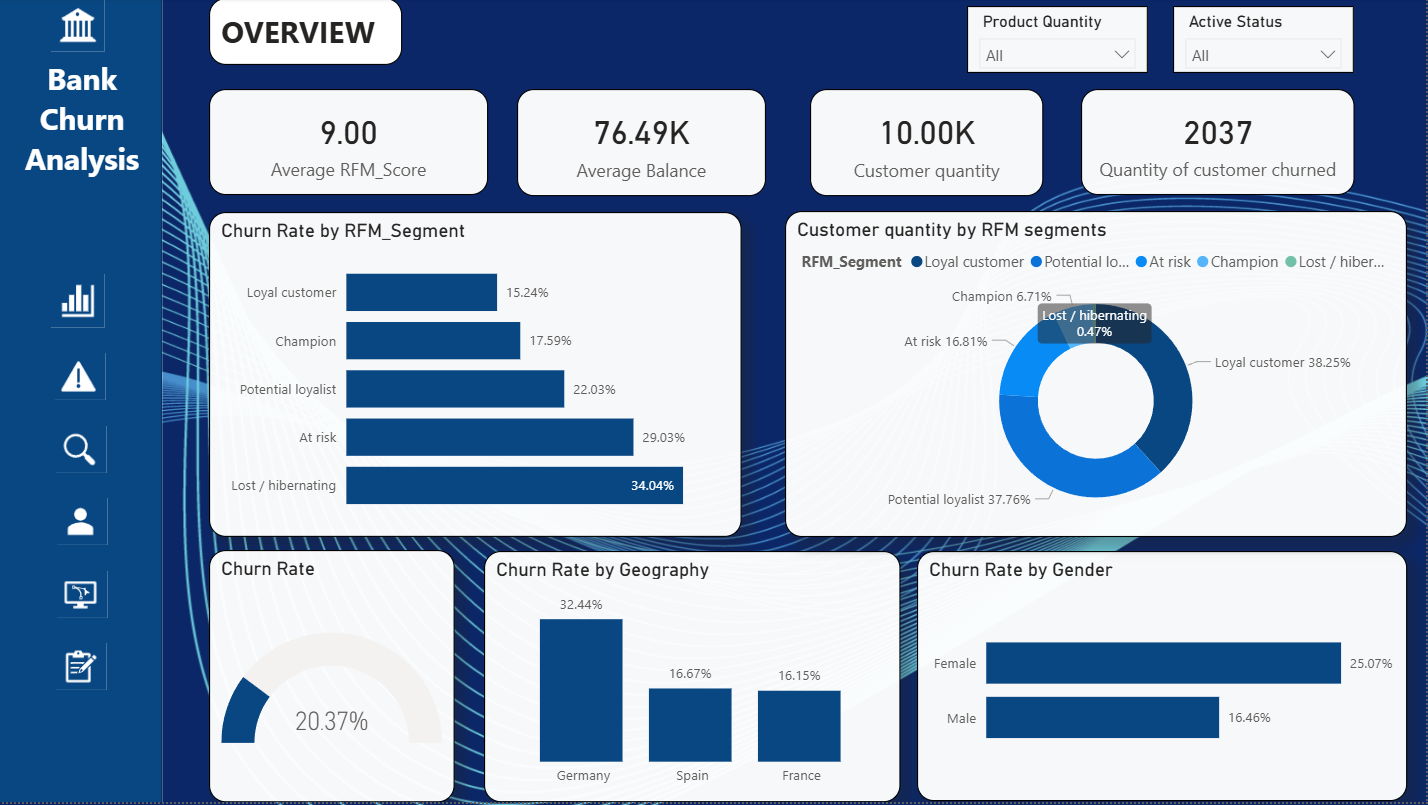

The dashboard page shown, as its layout file describes it:
{"tool":"powerbi","page":{"name":"📊Executive Overview","canvas":[1280,720],"ordinal":0},"visuals":[{"type":"shape","box":[0.9,0,147.8,720.9],"z":0},{"type":"card","fields":{"Values":["Count(Bank_Churn.CustomerId)"]},"box":[728.5,81.7,209.1,96.3],"z":1000},{"type":"card","fields":{"Values":["Sum(Bank_Churn.Exited)"]},"box":[971.7,81.7,245.1,95.3],"z":2000},{"type":"textbox","box":[190.6,0,173.1,60.3],"z":3000},{"type":"card","fields":{"Values":["Avg(Bank_Churn.Balance)"]},"box":[466.9,81.7,222.7,96.3],"z":4000},{"type":"barChart","fields":{"Category":["rfm_master_table.RFM_Segment"],"Y":["Bank_Churn.Churn Rate"]},"box":[190.7,191.6,477.3,291],"z":5000},{"type":"gauge","fields":{"Y":["Bank_Churn.Churn Rate"]},"box":[190.6,494.1,219.8,225.7],"z":6000},{"type":"clusteredColumnChart","fields":{"Category":["Bank_Churn.Geography"],"Y":["Bank_Churn.Churn Rate"]},"box":[436.7,495.1,373.5,224.7],"z":7000},{"type":"barChart","fields":{"Category":["rfm_master_table_1.Gender"],"Y":["Bank_Churn.Churn Rate"]},"box":[824.4,495.6,438.9,224.4],"z":8000},{"type":"card","title":"Avg RFM score","fields":{"Values":["Avg(rfm_master_table.RFM_Score)"]},"box":[190.6,81.7,250,95.3],"z":9000},{"type":"donutChart","title":"Customer quantity by RFM segments","fields":{"Category":["rfm_master_table.RFM_Segment"],"Y":["CountNonNull(Bank_Churn.CustomerId)"]},"box":[706.7,191.1,556.7,292.2],"z":10000},{"type":"slicer","fields":{"Values":["rfm_master_table_1.IsActive Status"]},"box":[1054.3,6.8,162.4,60.3],"z":11000},{"type":"slicer","fields":{"Values":["rfm_master_table_1.NumOfProducts"]},"box":[869.5,6.8,162.4,60.3],"z":12000},{"type":"actionButton","box":[49.3,247.2,48.4,48.4],"z":13000},{"type":"actionButton","box":[53.9,383.1,44.8,42.1],"z":14000},{"type":"actionButton","box":[54.3,512.8,44.8,42.1],"z":15000},{"type":"actionButton","box":[53.2,318.3,44.8,42.1],"z":16000},{"type":"actionButton","box":[54.6,447.9,44.8,42.1],"z":17000},{"type":"actionButton","box":[53.6,577.6,44.8,42.1],"z":18000},{"type":"textbox","box":[7.2,48.4,139.7,128.1],"z":19000},{"type":"actionButton","box":[49.3,0,48.4,48.4],"z":20000}]}

Visuals, with their boxes in screenshot pixels (x1, y1, x2, y2), scaled from the page's 1280x720 canvas onto the 1428x805 screenshot:
shape: (x1=1, y1=0, x2=166, y2=804)
card - Count(Bank_Churn.CustomerId): (x1=813, y1=91, x2=1046, y2=199)
card - Sum(Bank_Churn.Exited): (x1=1084, y1=91, x2=1357, y2=198)
textbox: (x1=213, y1=0, x2=406, y2=67)
card - Avg(Bank_Churn.Balance): (x1=521, y1=91, x2=769, y2=199)
barChart - rfm_master_table.RFM_Segment x Bank_Churn.Churn Rate: (x1=213, y1=214, x2=745, y2=540)
gauge - Bank_Churn.Churn Rate: (x1=213, y1=552, x2=458, y2=804)
clusteredColumnChart - Bank_Churn.Geography x Bank_Churn.Churn Rate: (x1=487, y1=554, x2=904, y2=804)
barChart - rfm_master_table_1.Gender x Bank_Churn.Churn Rate: (x1=920, y1=554, x2=1409, y2=804)
"Avg RFM score" card: (x1=213, y1=91, x2=492, y2=198)
"Customer quantity by RFM segments" donutChart: (x1=788, y1=214, x2=1409, y2=540)
slicer - rfm_master_table_1.IsActive Status: (x1=1176, y1=8, x2=1357, y2=75)
slicer - rfm_master_table_1.NumOfProducts: (x1=970, y1=8, x2=1151, y2=75)
actionButton: (x1=55, y1=276, x2=109, y2=330)
actionButton: (x1=60, y1=428, x2=110, y2=475)
actionButton: (x1=61, y1=573, x2=111, y2=620)
actionButton: (x1=59, y1=356, x2=109, y2=403)
actionButton: (x1=61, y1=501, x2=111, y2=548)
actionButton: (x1=60, y1=646, x2=110, y2=693)
textbox: (x1=8, y1=54, x2=164, y2=197)
actionButton: (x1=55, y1=0, x2=109, y2=54)
